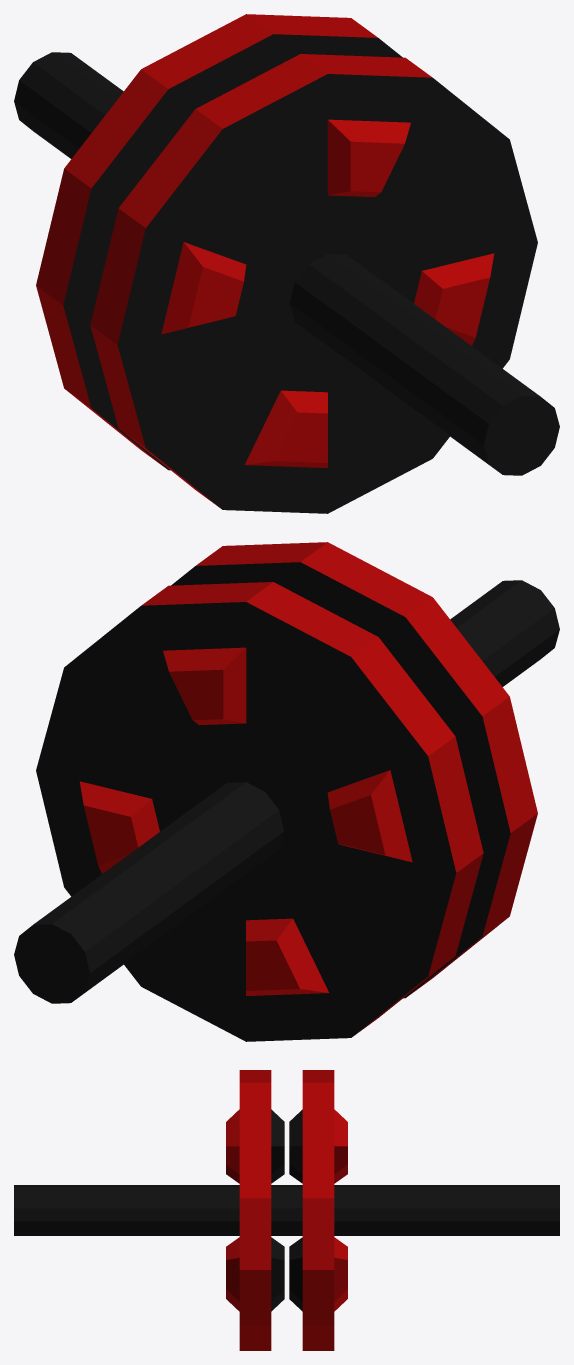
The model's file is AbWheel.fbx.
3 renders of one model, top to bottom at view 1: azimuth 30°, elevation 25°; view 2: azimuth 150°, elevation 25°; view 3: azimuth 270°, elevation 25°, orthographic. The views are drawn at different scales.
Parts seen in each view (by area): view 1: AbWheel; view 2: AbWheel; view 3: AbWheel.
Boxes of the visible parts, x1,y1,x2,y2 form: AbWheel: (14, 14, 559, 513); AbWheel: (14, 542, 559, 1041); AbWheel: (14, 1070, 559, 1350).
Size of the model in its own units: 17.18 by 17.18 by 33.26.
